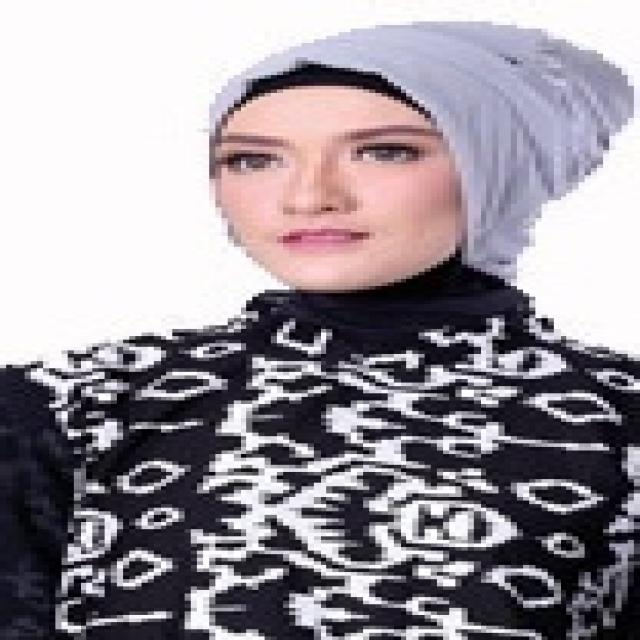head: (203, 23, 557, 311)
